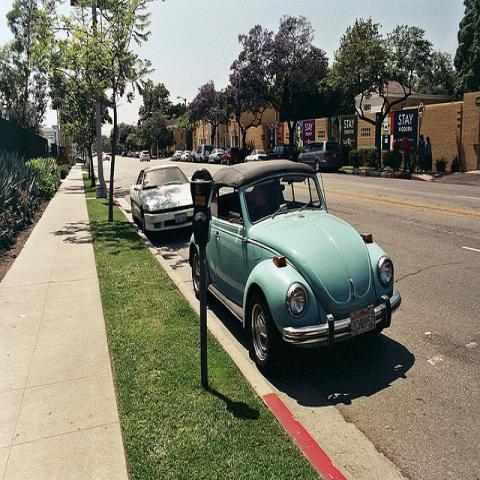car: (190, 159, 396, 371), (130, 164, 194, 235), (297, 140, 343, 172), (267, 142, 299, 162), (193, 144, 215, 164), (219, 147, 241, 166), (244, 150, 269, 161), (208, 148, 224, 164), (180, 151, 191, 162), (140, 150, 150, 162), (172, 151, 183, 161), (103, 153, 112, 162)
